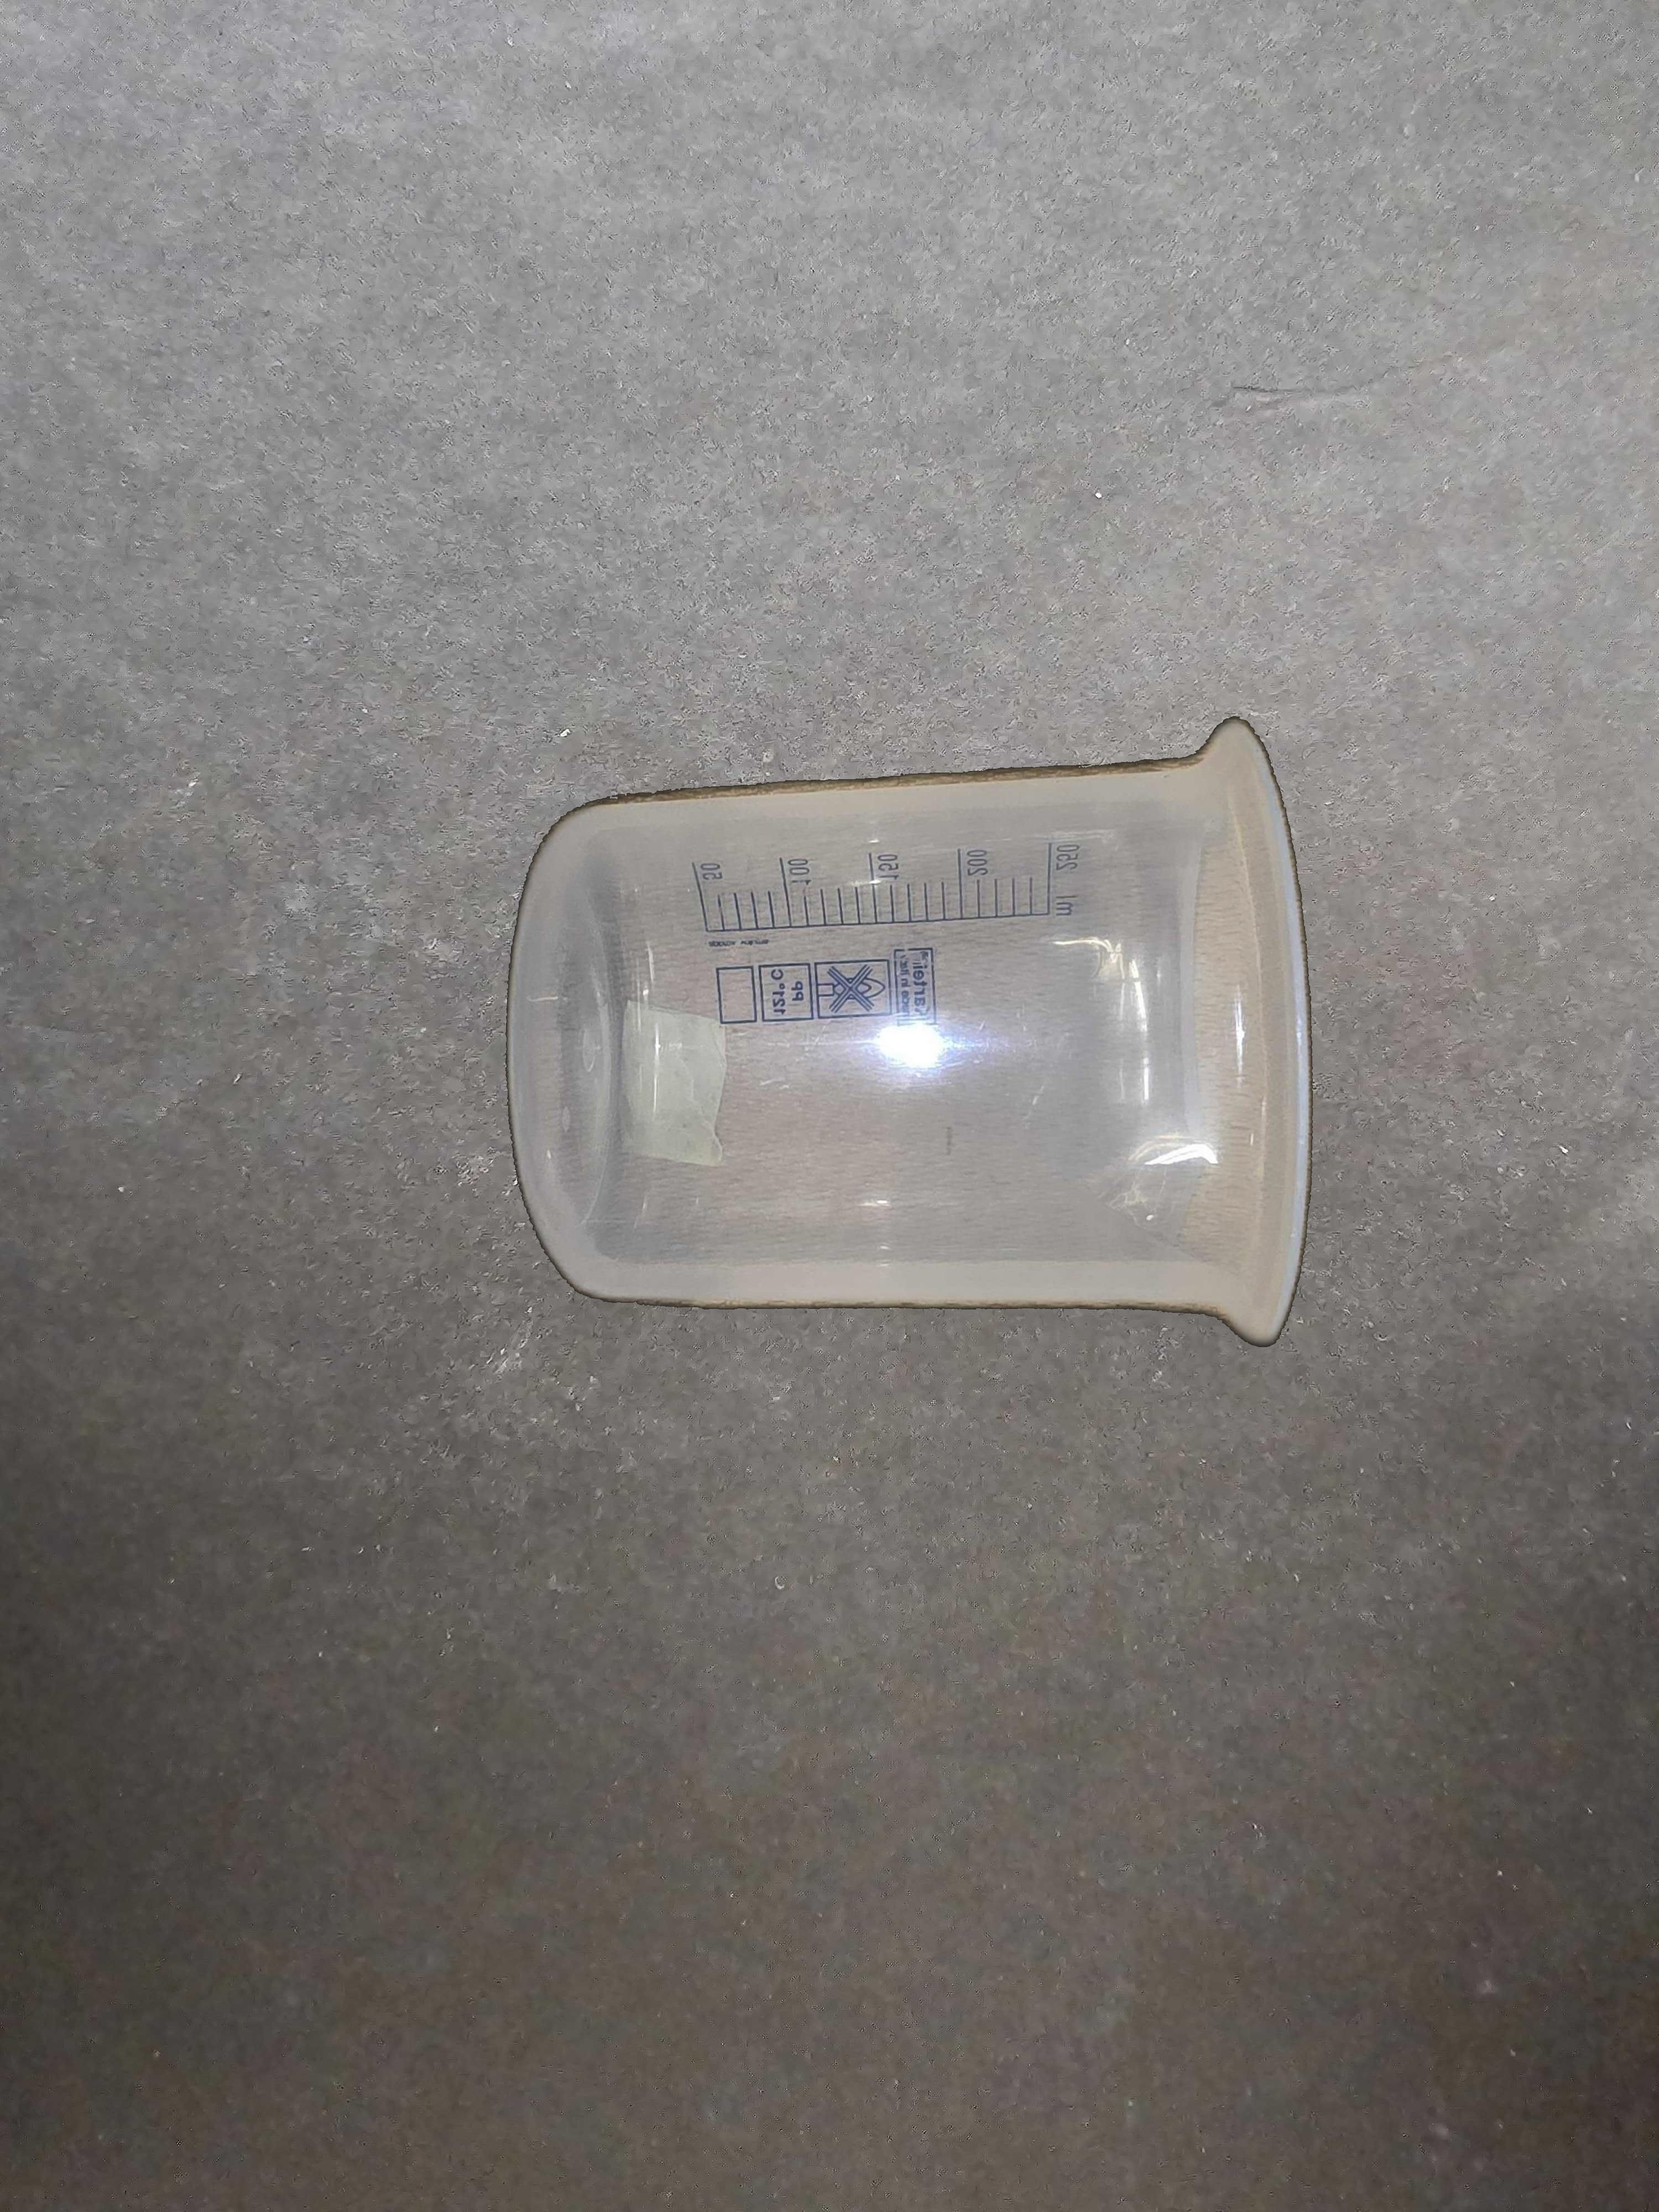becker: (505, 718, 1309, 1350)
